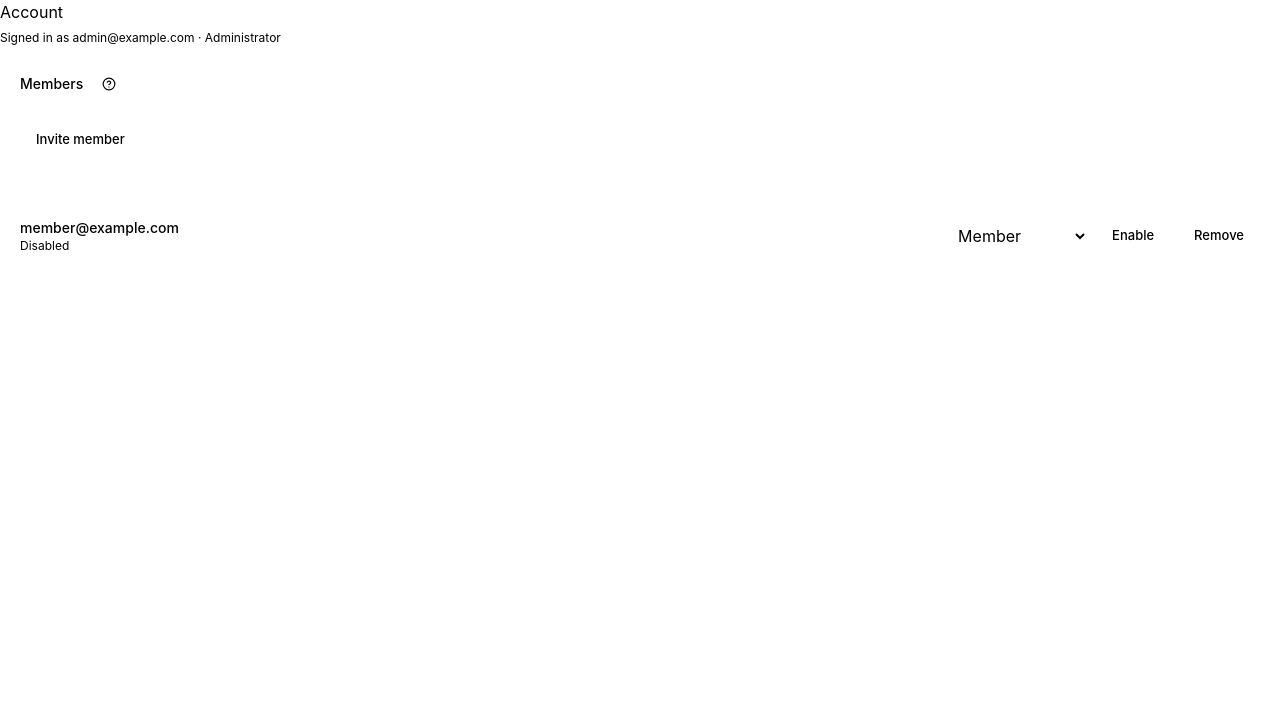
Test case: offers removal only after disabling, and cancellation preserves the member
Click the button "Remove" at (1219, 236), box [1178,214,1260,258]
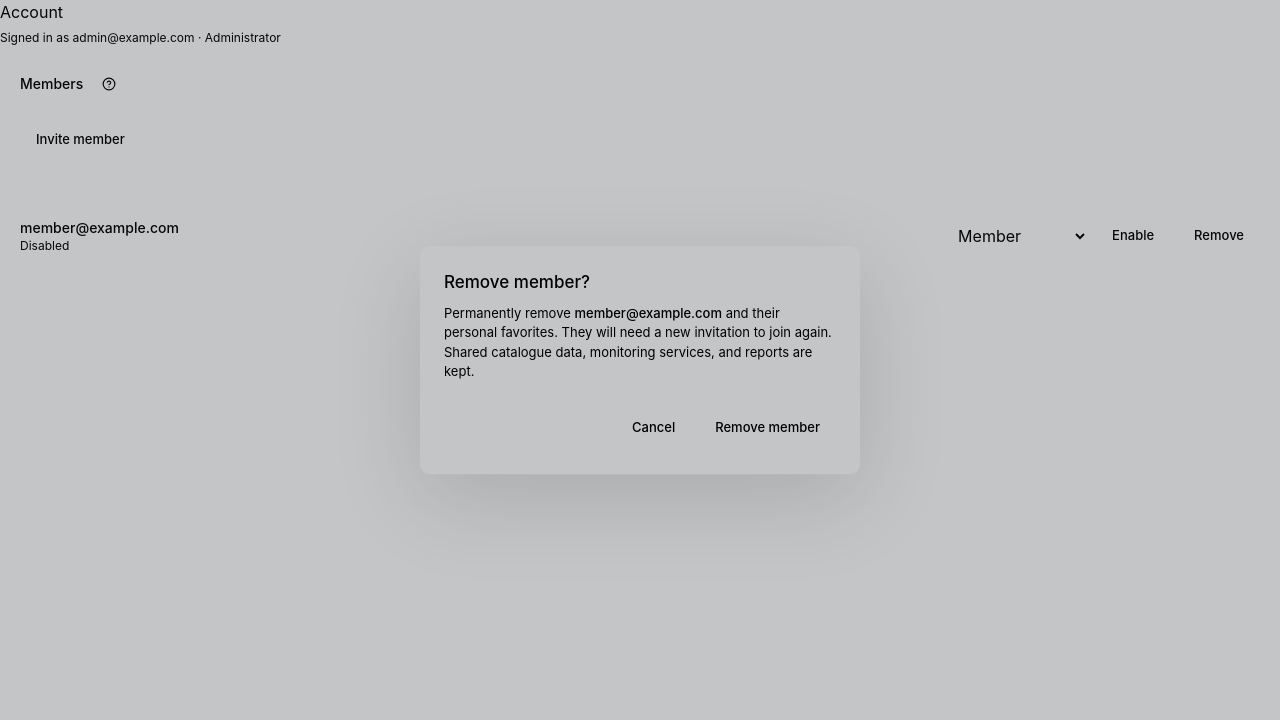
Now the dialog "Remove member?" shows "member@example.com", box [574,305,722,321]
Now the dialog "Remove member?" shows "new invitation", box [444,324,832,379]
Now the dialog "Remove member?" shows "Shared catalogue data", box [444,324,832,379]
Click the button "Cancel" at (654, 428), box [616,406,691,450]
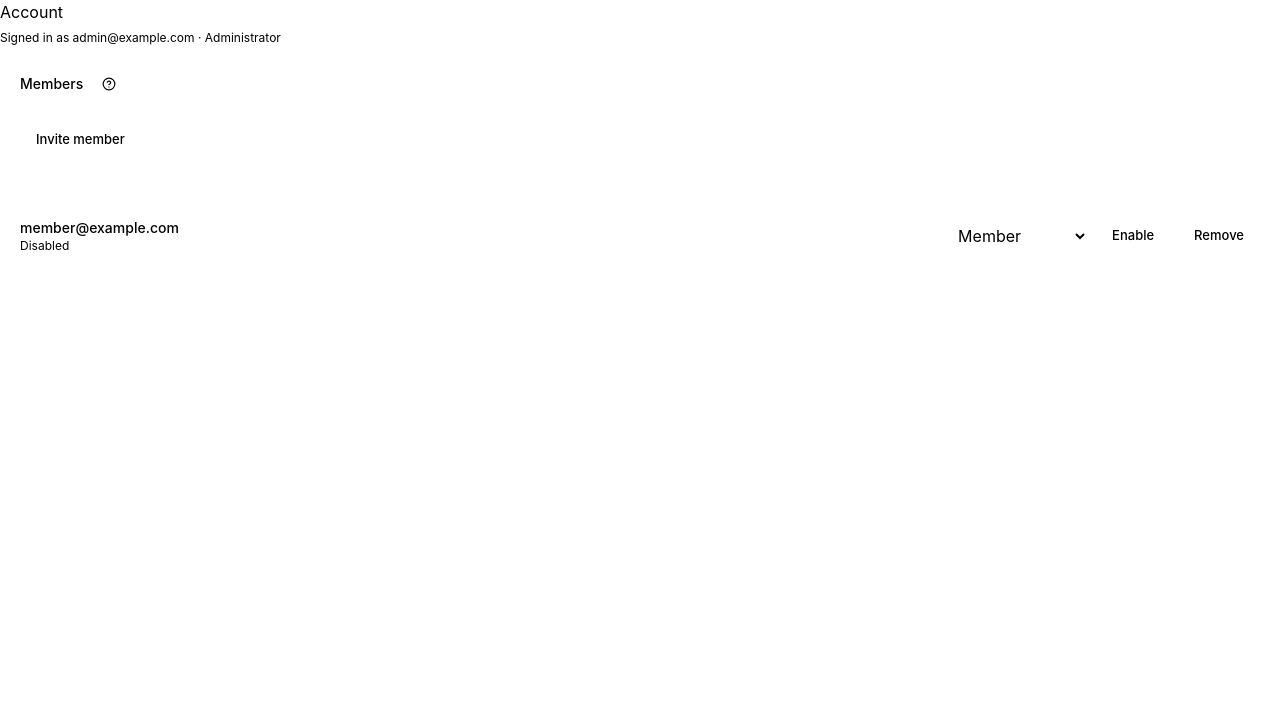
Expected: the text "member@example.com" is shown, [20,218,179,238]
Now the dialog is gone
